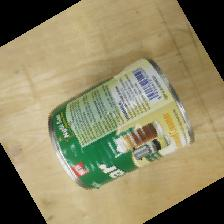NSPN_Lon: (48, 58, 195, 190)
